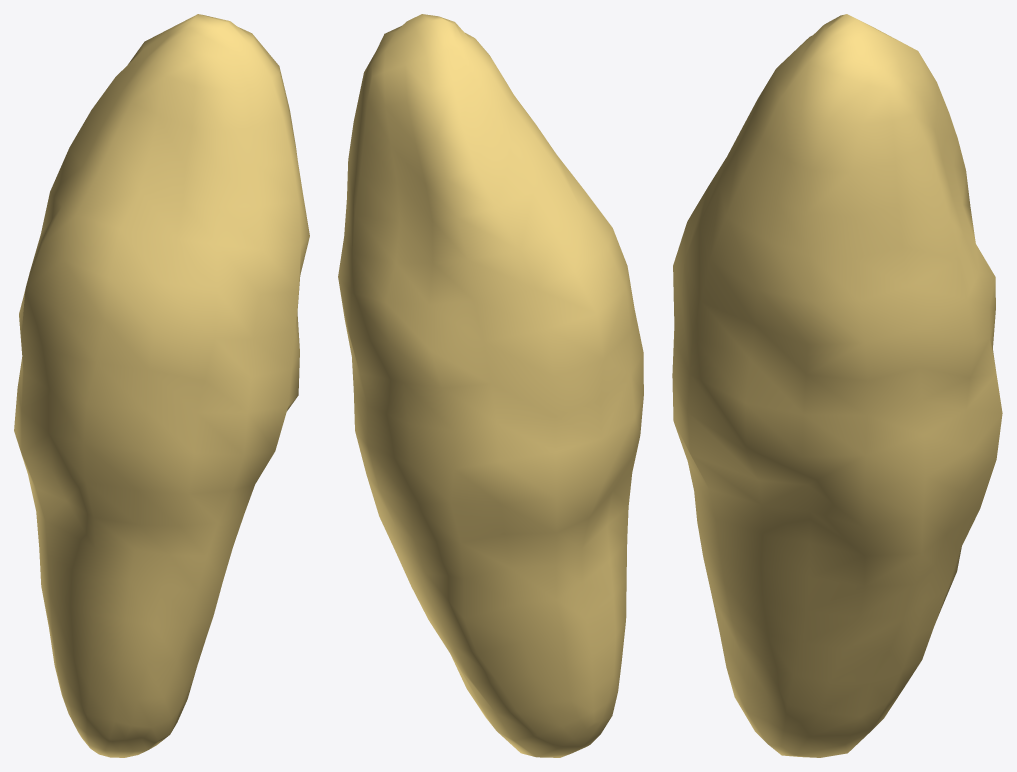
The model's file is Big_Crystal2.fbx.
3 renders of one model, left to right at view 1: azimuth 30°, elevation 25°; view 2: azimuth 150°, elevation 25°; view 3: azimuth 270°, elevation 25°, orthographic. The views are drawn at different scales.
Parts seen in each view (by area): view 1: Low; view 2: Low; view 3: Low.
Part boxes in pixels (bbox=[...]): Low: bbox=[14, 14, 309, 757]; Low: bbox=[338, 14, 643, 757]; Low: bbox=[672, 14, 1002, 757].
Size of the model in its own units: 1.94 by 5.02 by 1.91.
